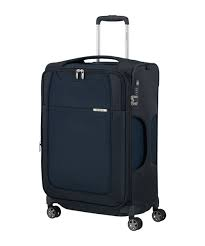suitcase: (38, 15, 166, 229)
